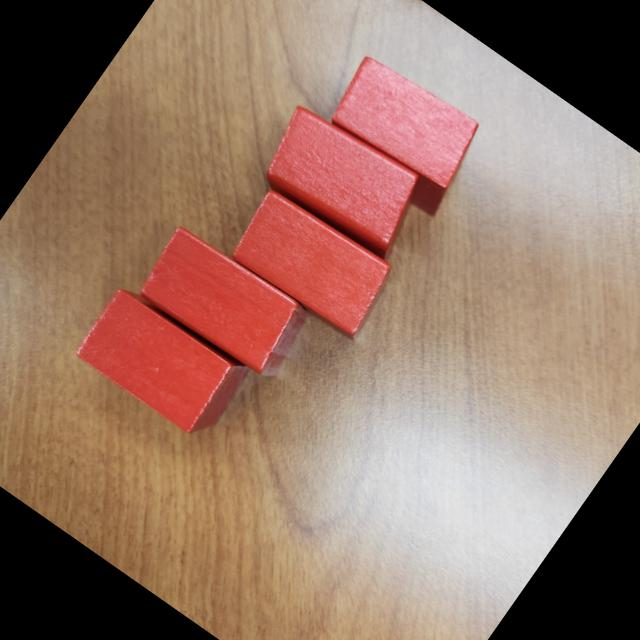red: (250, 95, 438, 267), (70, 279, 256, 447), (312, 48, 492, 216), (132, 220, 312, 382), (224, 183, 401, 343)
